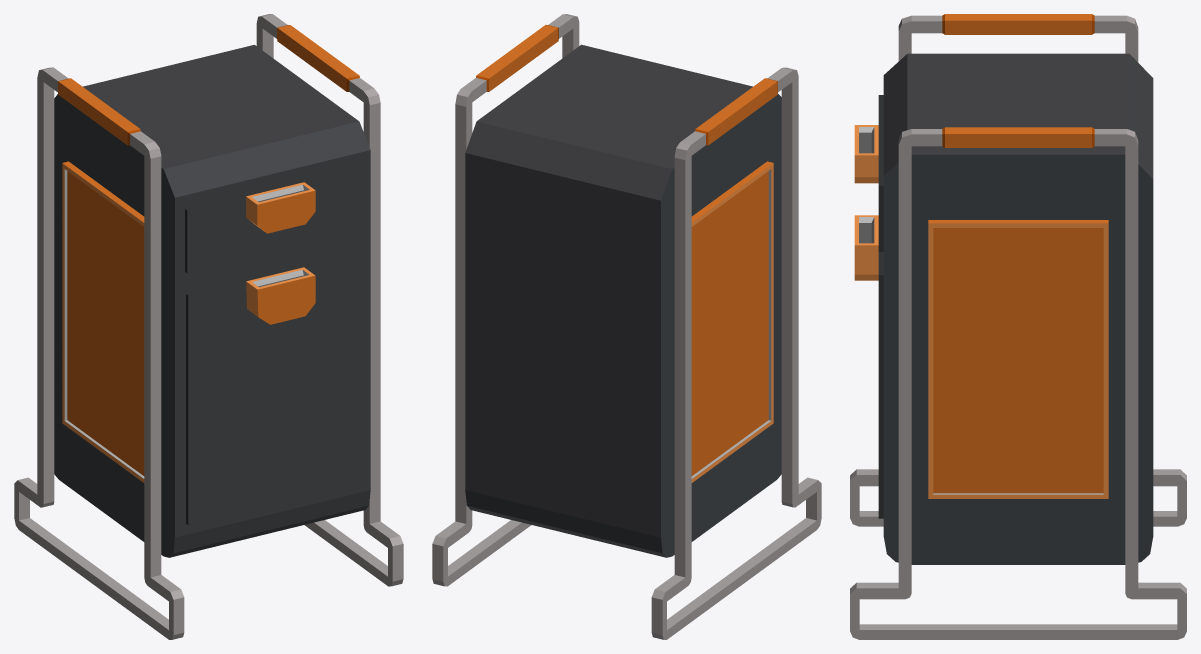
The model's file is Drawer_02.glb.
The picture shows the model from 3 angles, left to right: view 1: azimuth 30°, elevation 25°; view 2: azimuth 150°, elevation 25°; view 3: azimuth 270°, elevation 25°; orthographic projection. The views are drawn at different scales.
Parts seen in each view (by area): view 1: Drawer_02; view 2: Drawer_02; view 3: Drawer_02.
Boxes of the visible parts, left/top/right/bottom form: Drawer_02: left=14, top=14, right=403, bottom=639; Drawer_02: left=432, top=14, right=821, bottom=639; Drawer_02: left=850, top=14, right=1186, bottom=639.
Size of what is drawn, in the model's own units: 0.6336 by 1.25 by 0.7523.
Materials: 1 (1 with a texture image).
